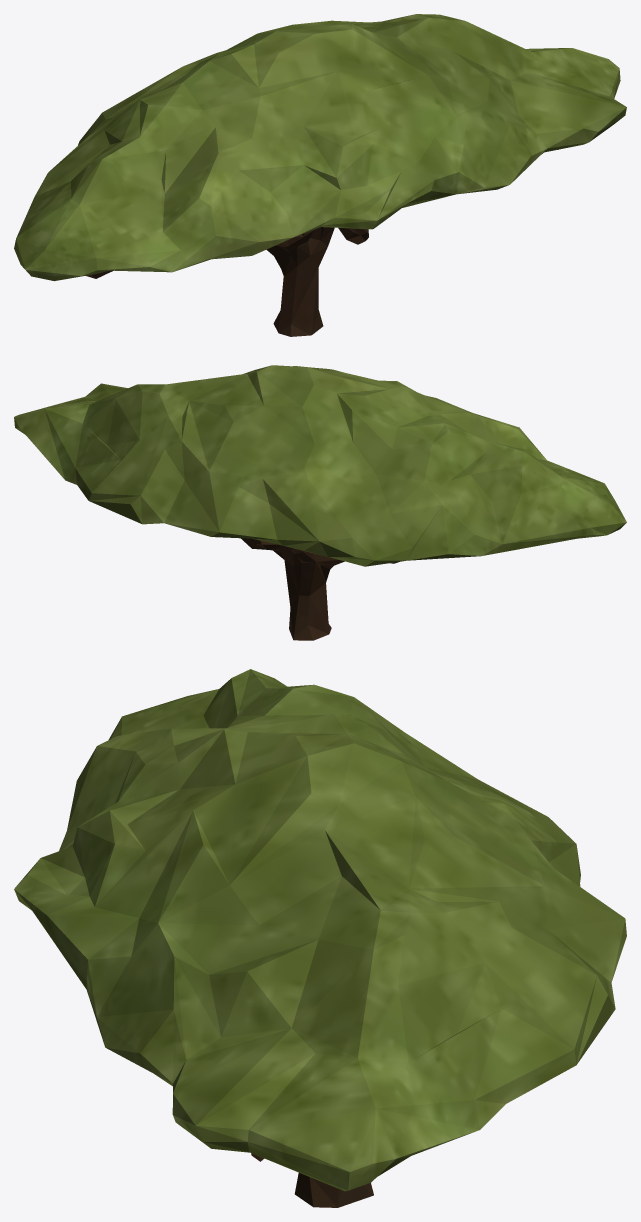
File: acacia.glb
3 renders of one model, top to bottom at view 1: azimuth 30°, elevation 25°; view 2: azimuth 150°, elevation 25°; view 3: azimuth 270°, elevation 25°, orthographic. The views are drawn at different scales.
Visible parts, largest first — view 1: Acacia_Mesh; view 2: Acacia_Mesh; view 3: Acacia_Mesh.
Boxes of the visible parts, <box> form: Acacia_Mesh: <box>14,14,626,336</box>; Acacia_Mesh: <box>14,365,626,640</box>; Acacia_Mesh: <box>14,669,626,1207</box>.
Size of the model in its own units: 23.32 by 10.2 by 12.76.
Materials: 1 (1 with a texture image).
